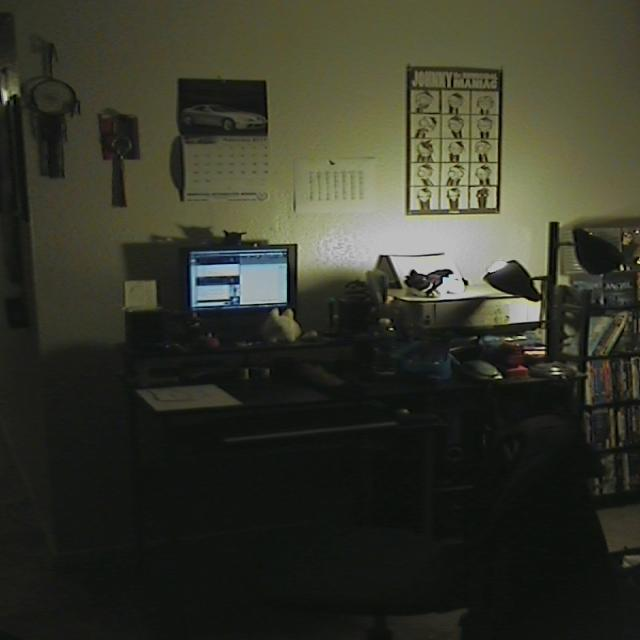Table: (89, 324, 594, 635)
chair: (231, 417, 592, 640)
